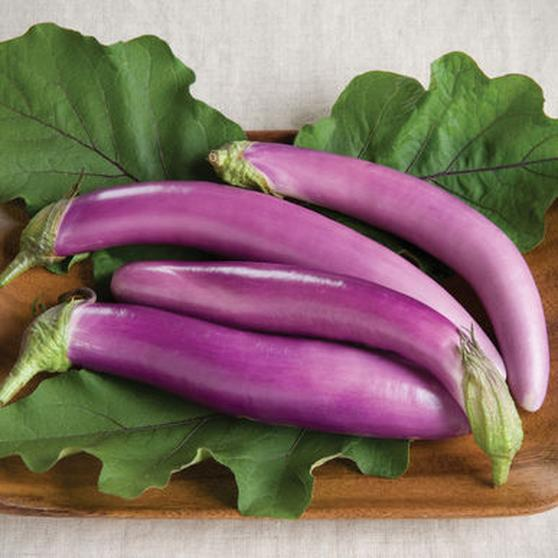eggplant: (26, 298, 480, 444)
